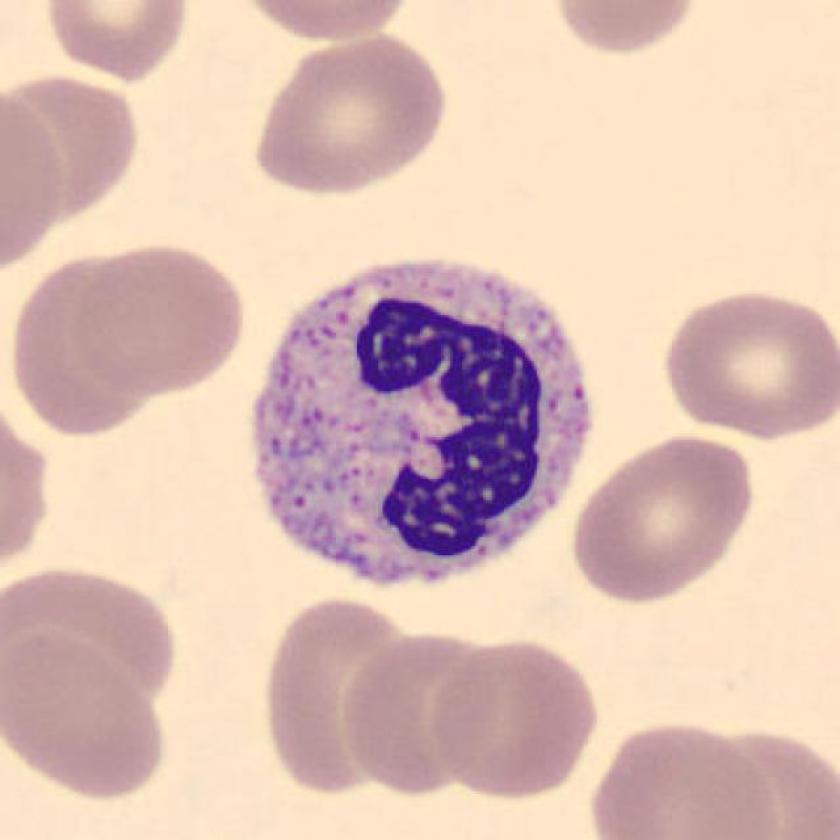neutrophil: (251, 261, 592, 589)
